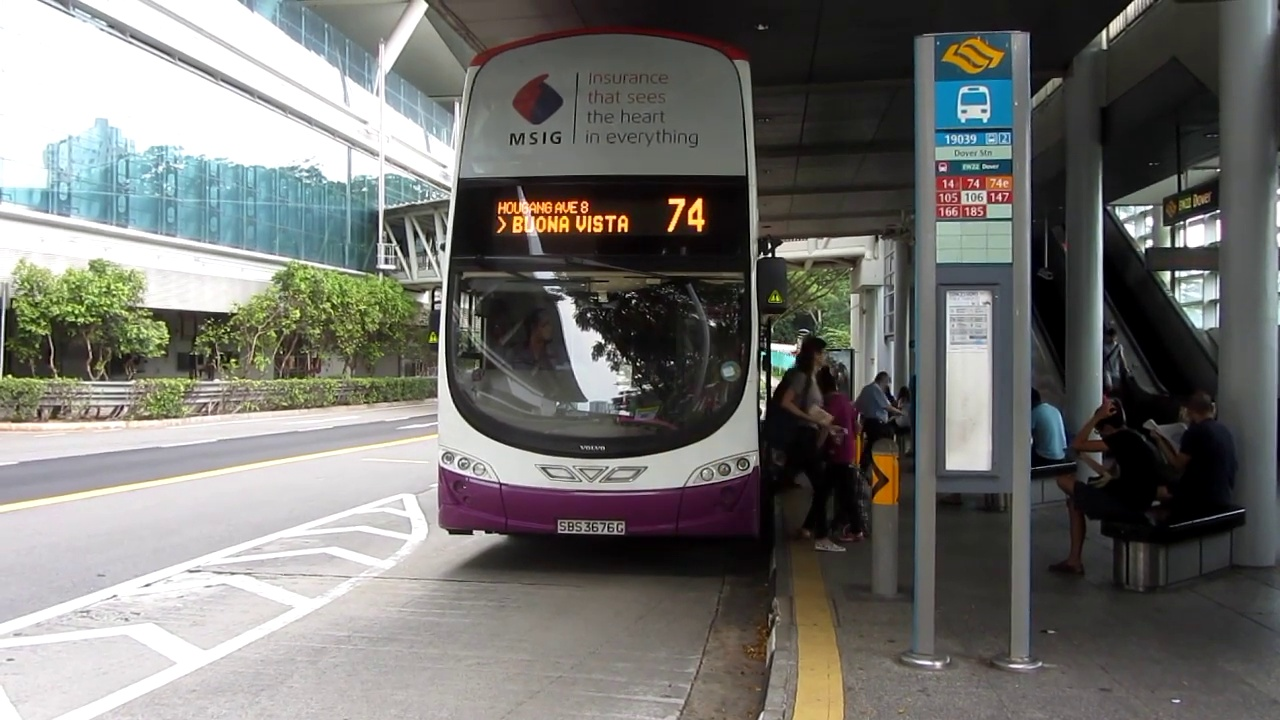bus panel: (493, 193, 711, 236)
